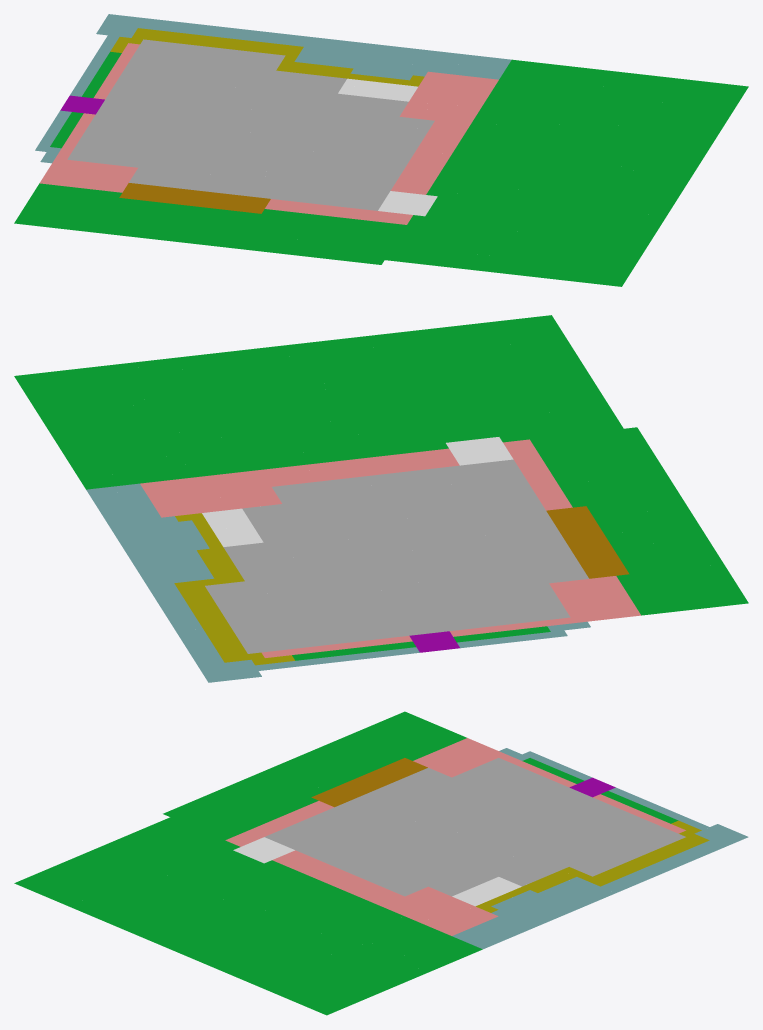
Rendered from Mesh_Home_gezi.fbx.
3 renders of one model, top to bottom at view 1: azimuth 30°, elevation 25°; view 2: azimuth 150°, elevation 25°; view 3: azimuth 270°, elevation 25°, orthographic. The views are drawn at different scales.
Visible parts, largest first — view 1: gezi; view 2: gezi; view 3: gezi.
Part boxes in pixels (<box>): gezi: <box>14,14,748,286</box>; gezi: <box>14,315,748,682</box>; gezi: <box>14,711,748,1015</box>.
Size of the model in its own units: 6505 by 3.3e-05 by 6647.
